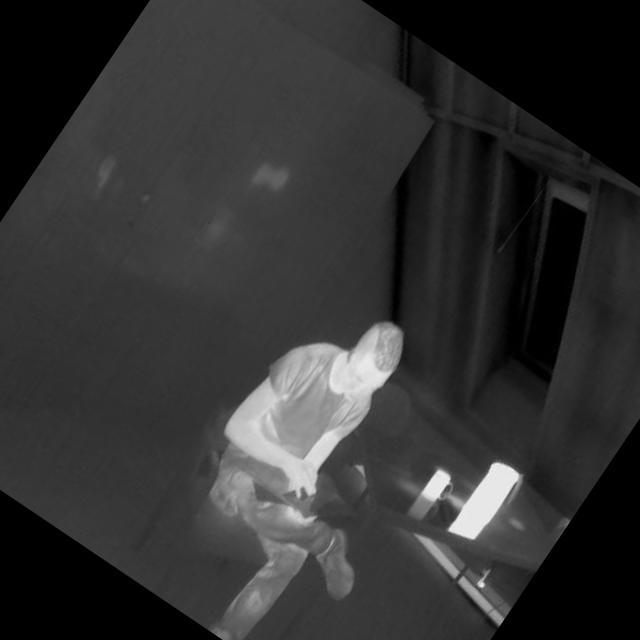person: (123, 273, 495, 640)
